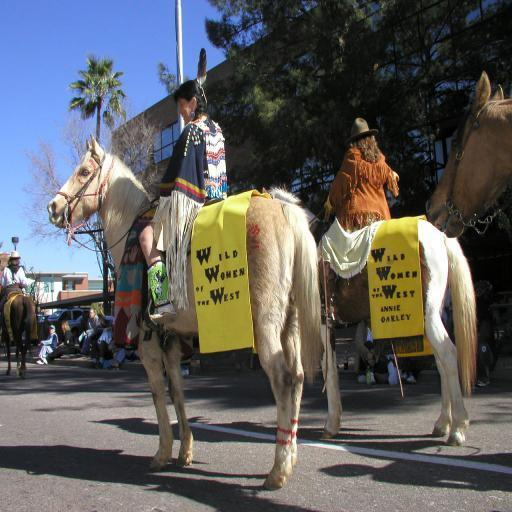horse: (45, 132, 322, 494), (262, 184, 476, 450), (426, 70, 512, 239), (2, 294, 36, 380)
